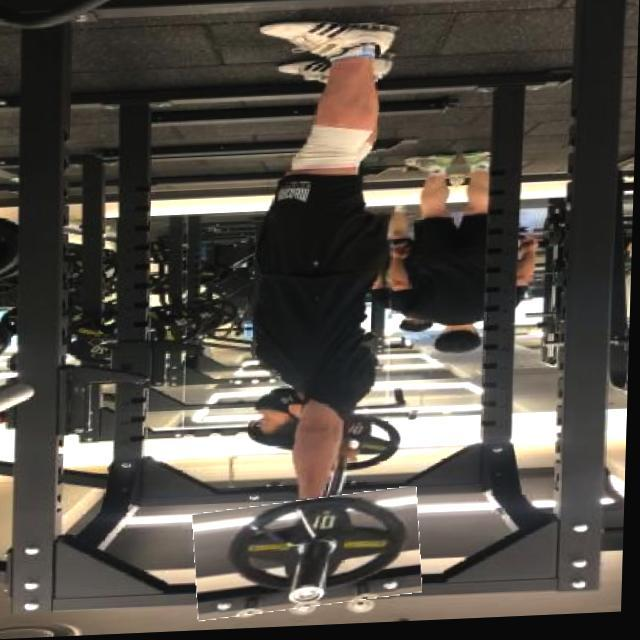barbell: (197, 495, 427, 620)
